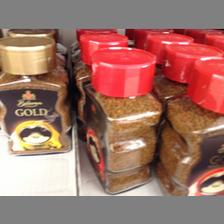Kaffee: (82, 44, 160, 192), (157, 56, 223, 196), (1, 36, 72, 156)
